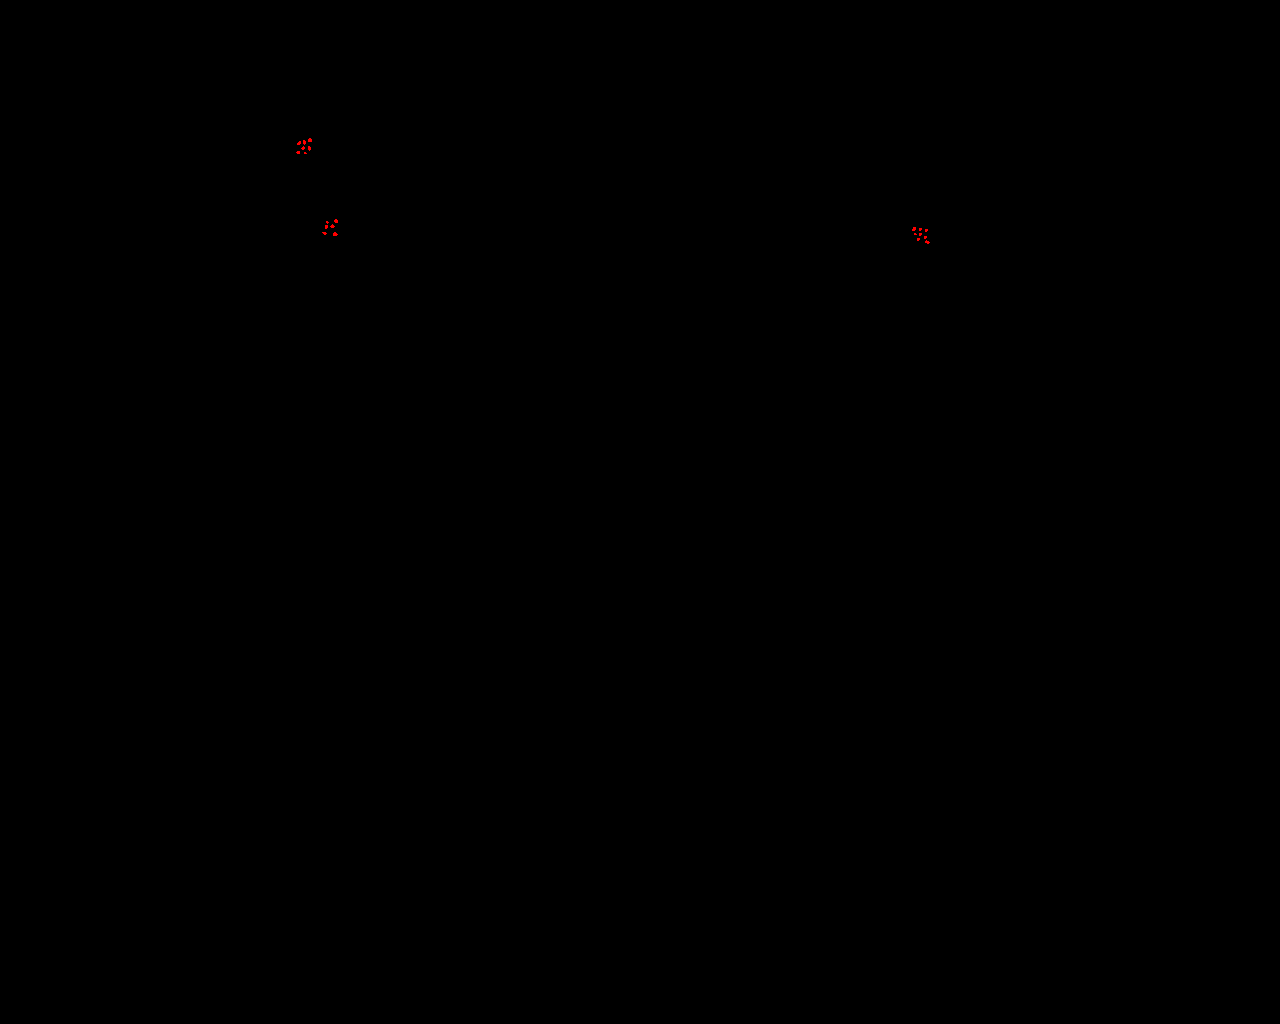Target: (330, 224, 335, 228), (925, 240, 930, 245), (308, 138, 312, 142), (297, 141, 301, 145), (301, 146, 305, 150), (912, 227, 916, 231), (333, 232, 338, 236), (303, 140, 306, 145), (308, 146, 311, 152), (322, 232, 327, 235), (325, 225, 328, 229), (334, 219, 338, 223), (925, 229, 928, 232), (924, 236, 927, 239), (296, 152, 300, 154), (304, 152, 307, 154), (326, 222, 329, 224), (920, 228, 922, 231), (914, 233, 917, 235), (920, 233, 922, 236), (917, 238, 920, 241)
